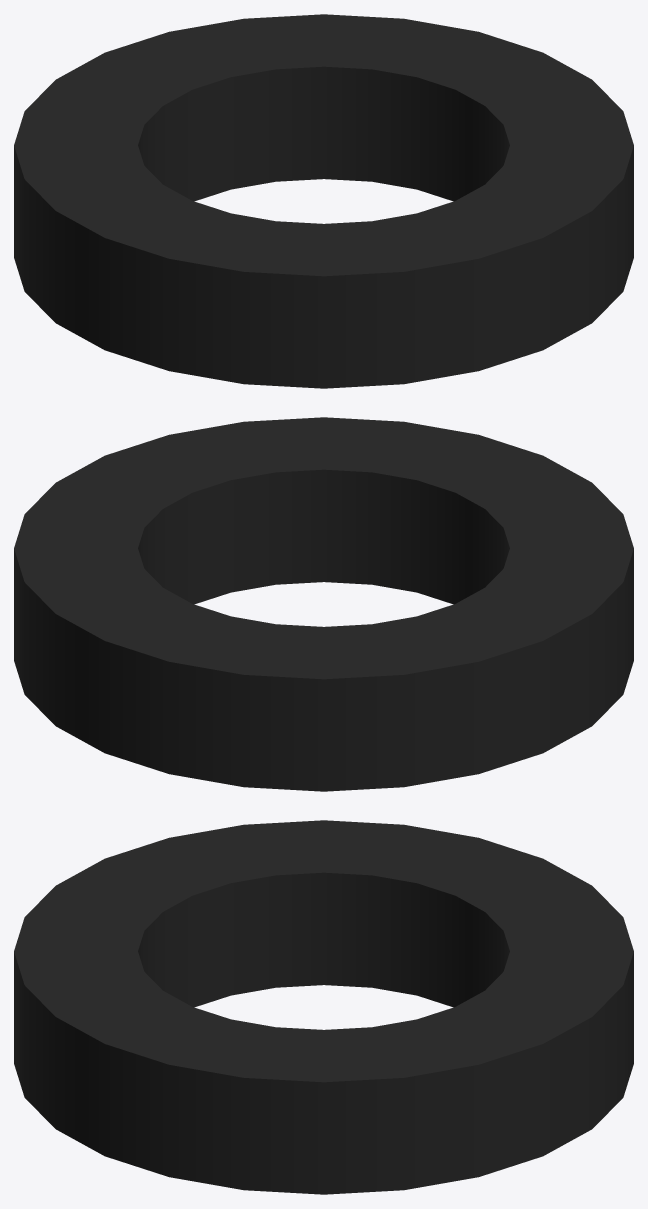
The model's file is Arrow_Decoupler_0_1.obj.
The picture shows the model from 3 angles, top to bottom: view 1: azimuth 30°, elevation 25°; view 2: azimuth 150°, elevation 25°; view 3: azimuth 270°, elevation 25°; orthographic projection.
Parts seen in each view (by area): view 1: Arrow_Decoupler_0_1; view 2: Arrow_Decoupler_0_1; view 3: Arrow_Decoupler_0_1.
Part boxes in pixels (<box>): Arrow_Decoupler_0_1: <box>14,14,633,388</box>; Arrow_Decoupler_0_1: <box>14,417,633,791</box>; Arrow_Decoupler_0_1: <box>14,820,633,1194</box>.
Size of the model in its own units: 0.625 by 0.125 by 0.625.
